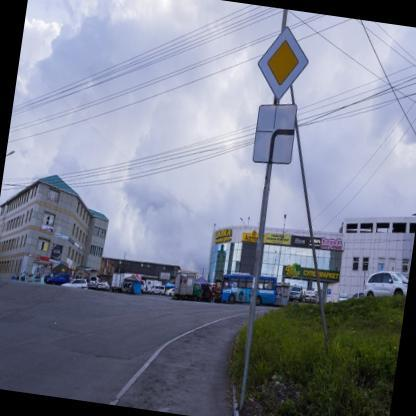road_sign: (258, 27, 308, 101), (254, 106, 297, 163)
